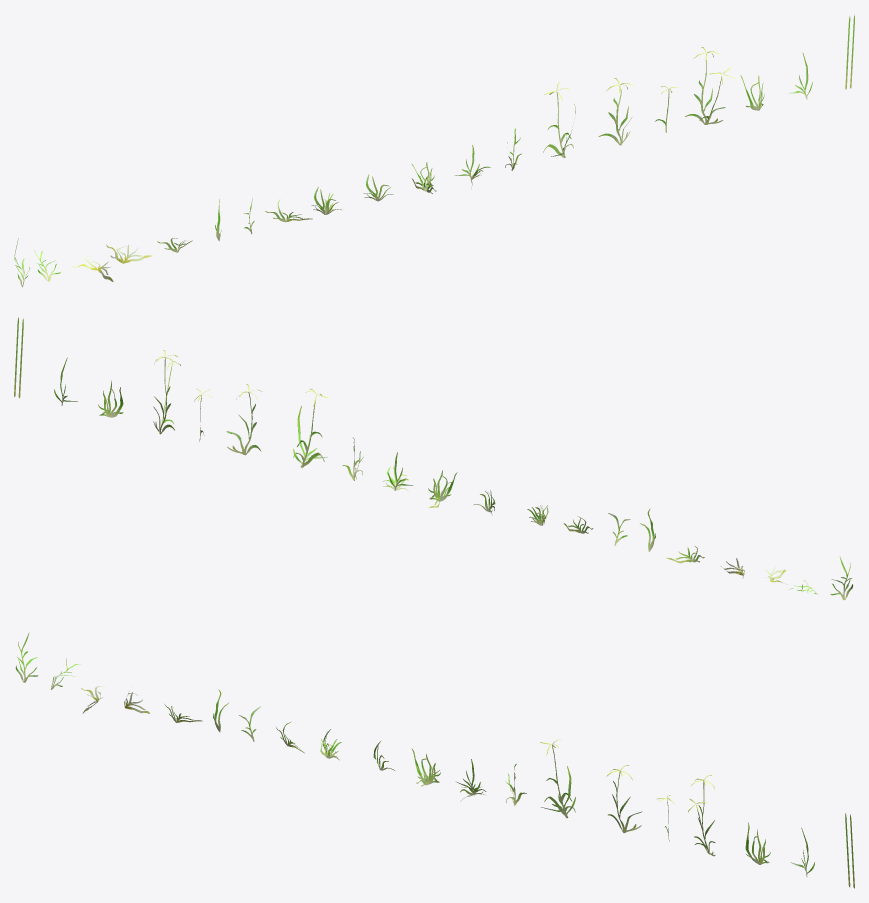
The model's file is grass_bermuda_01.glb.
3 views of the same model, one above another, from view 1: azimuth 30°, elevation 25°; view 2: azimuth 150°, elevation 25°; view 3: azimuth 330°, elevation 25° (orthographic).
Parts seen in each view (by area): view 1: grass_bermuda_01_seedling_d; view 2: grass_bermuda_01_seedling_a; view 3: grass_bermuda_01_seedling_a.
Boxes of the visible parts, x1=… form: grass_bermuda_01_seedling_d: x1=685, y1=47, x2=734, y2=124; grass_bermuda_01_seedling_a: x1=293, y1=388, x2=328, y2=468; grass_bermuda_01_seedling_a: x1=540, y1=739, x2=575, y2=818.
Bounding box in the file's own units: 1.69 × 0.1583 × 0.1422.
1 material, 1 textured.
